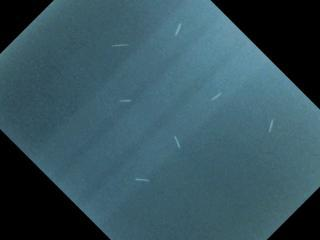scratch: (171, 132, 186, 155), (128, 172, 154, 185), (266, 116, 275, 134), (173, 22, 182, 37), (110, 42, 131, 48), (211, 90, 223, 100), (117, 98, 134, 105)
